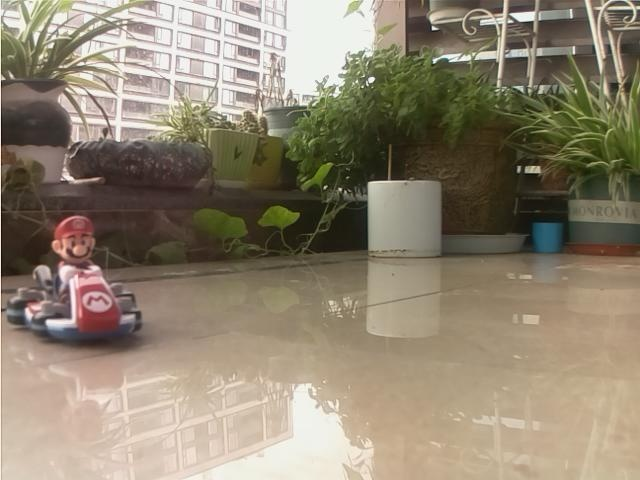mario: (3, 204, 147, 347)
